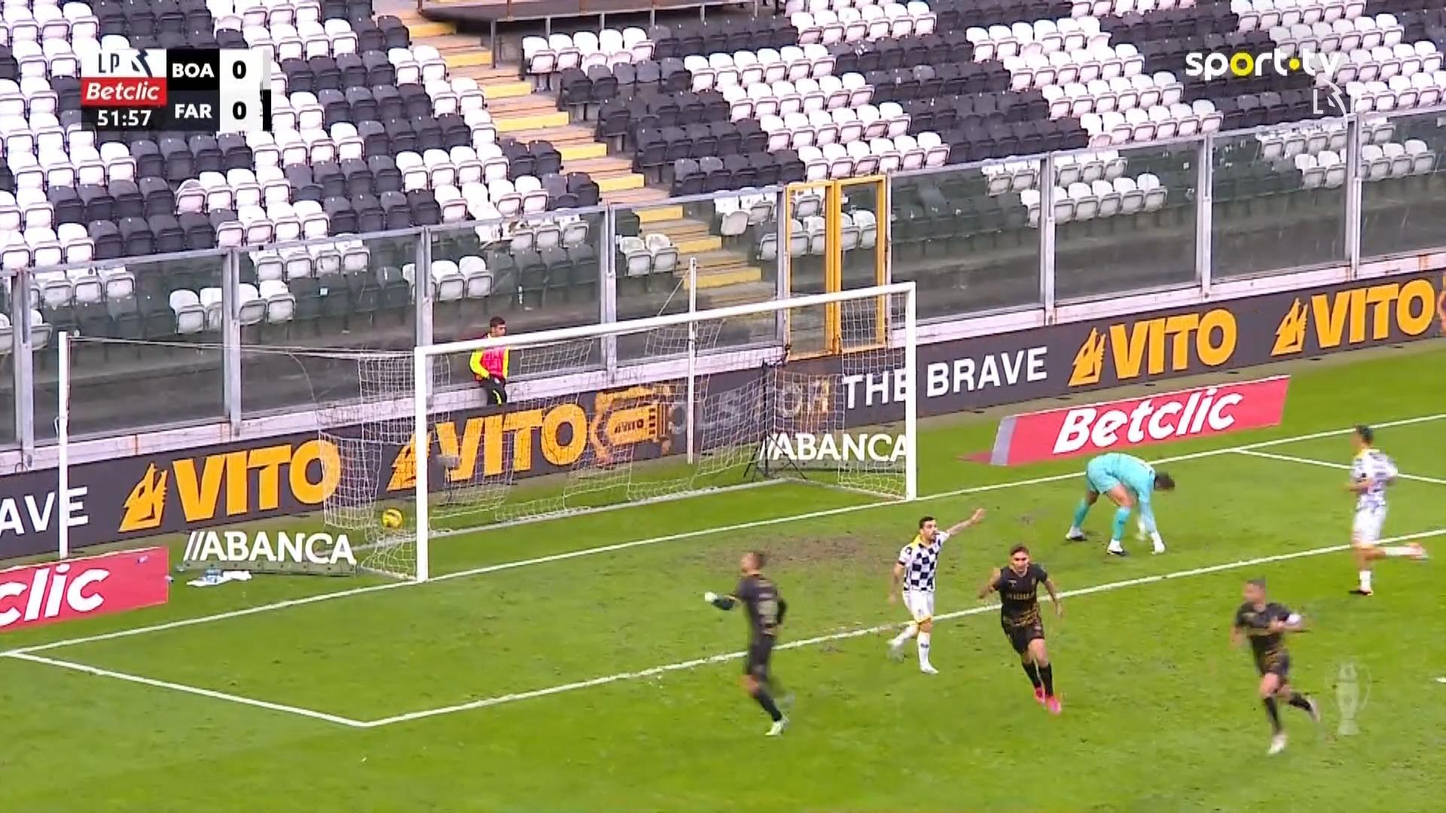ball: (380, 507, 402, 529)
goalkeeper: (1064, 450, 1175, 557)
player: (883, 505, 986, 674), (1229, 575, 1321, 756), (703, 549, 791, 736), (977, 542, 1065, 715), (1344, 422, 1429, 596)
